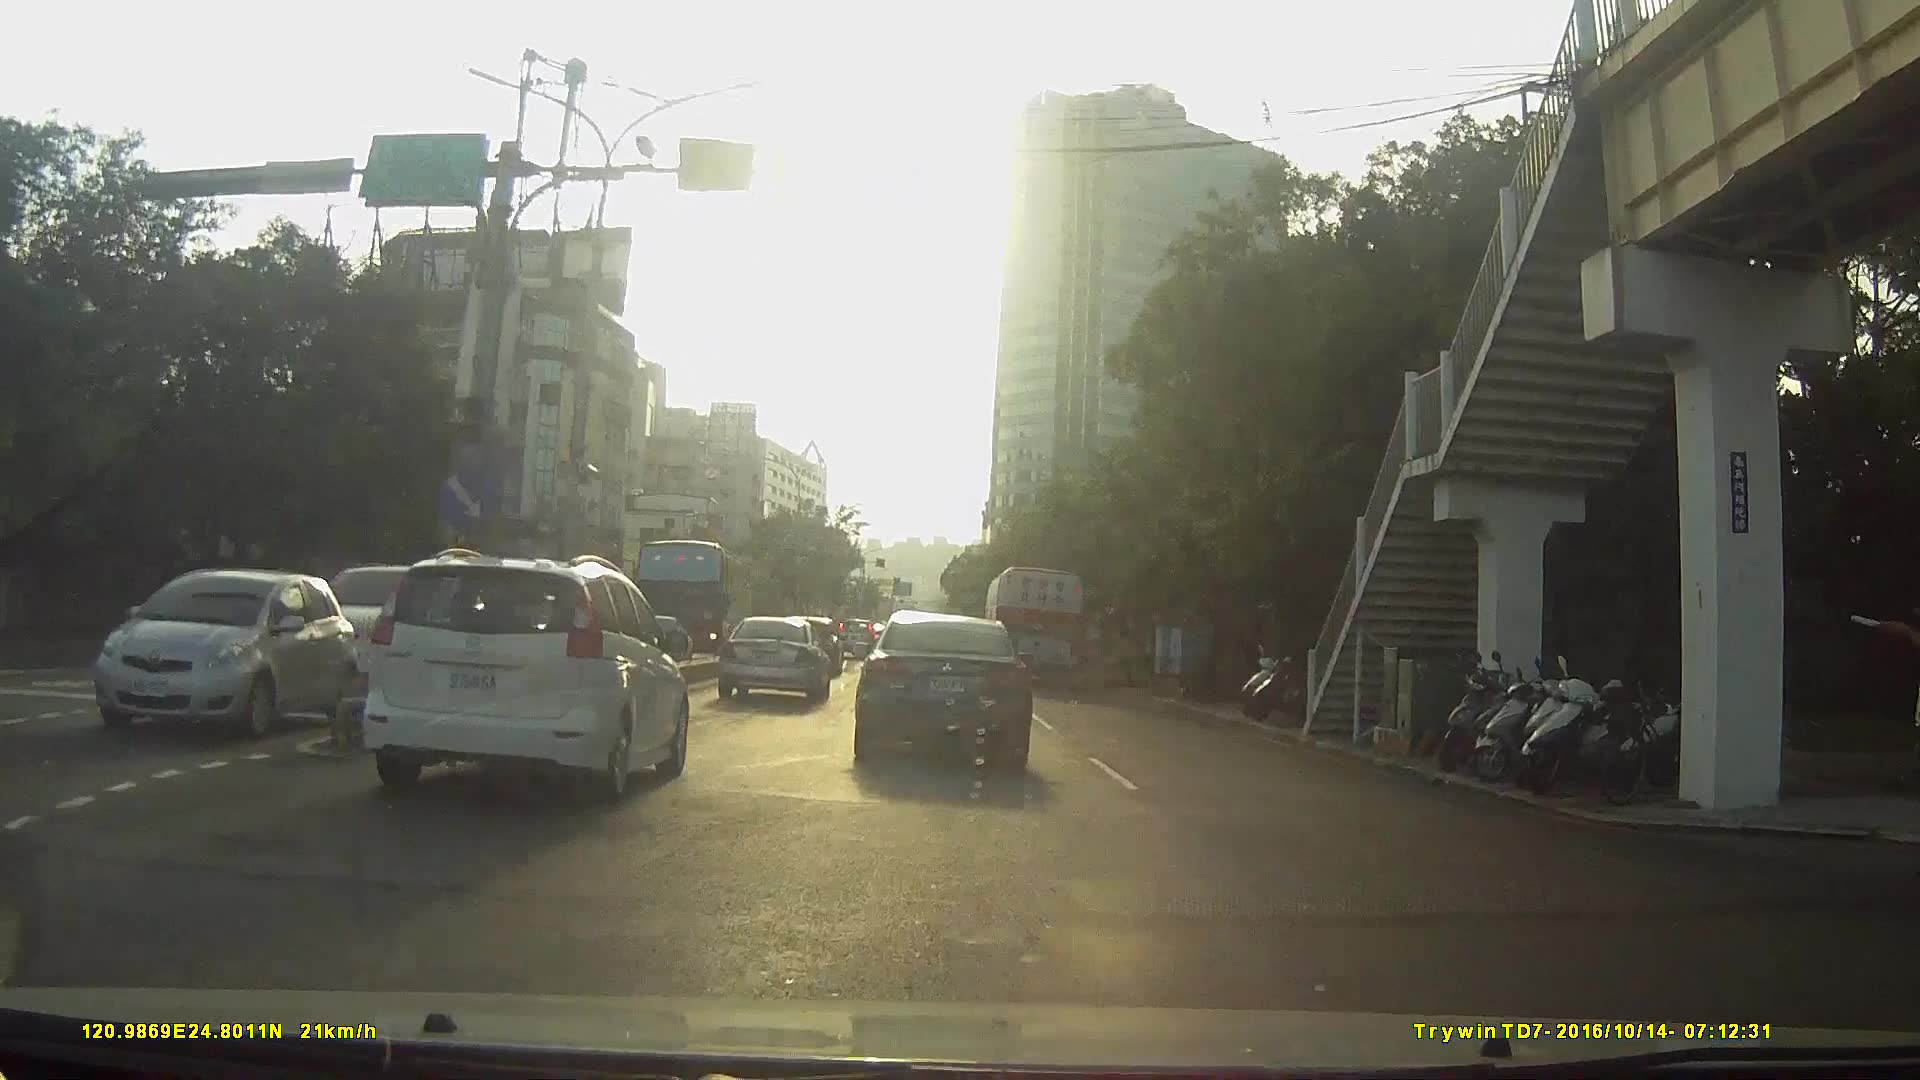pedestrian: (1842, 595, 1914, 866)
vehicle: (250, 556, 684, 868), (362, 547, 691, 802), (63, 561, 356, 755), (854, 607, 1035, 778), (301, 560, 493, 711), (626, 537, 755, 659), (983, 563, 1090, 695), (719, 615, 832, 707), (833, 617, 879, 659)
